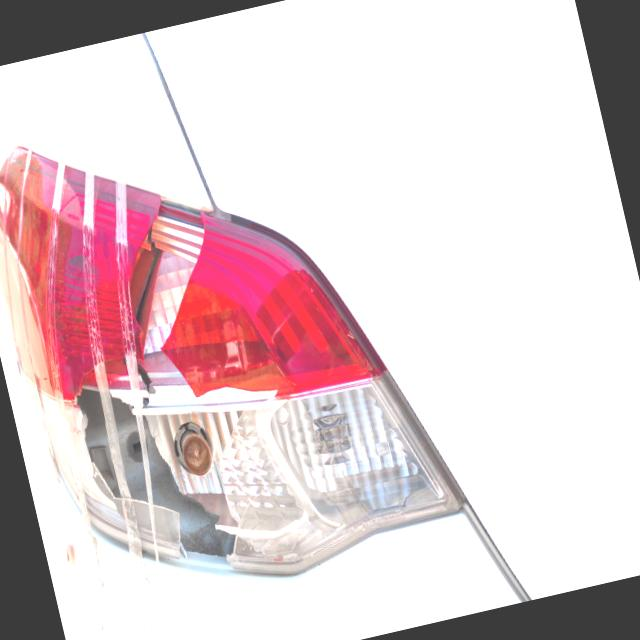Phare abime: (16, 117, 322, 597)
